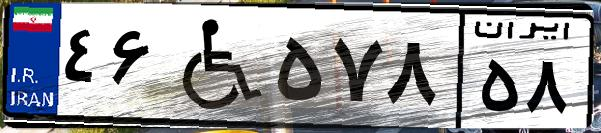4: (57, 26, 110, 100)
5: (270, 28, 330, 110), (475, 38, 525, 113)
6: (110, 28, 158, 98)
7: (330, 28, 385, 110)
8: (385, 28, 445, 110), (525, 38, 570, 115)
ژ (معلولین و جانبازان): (158, 12, 270, 120)
